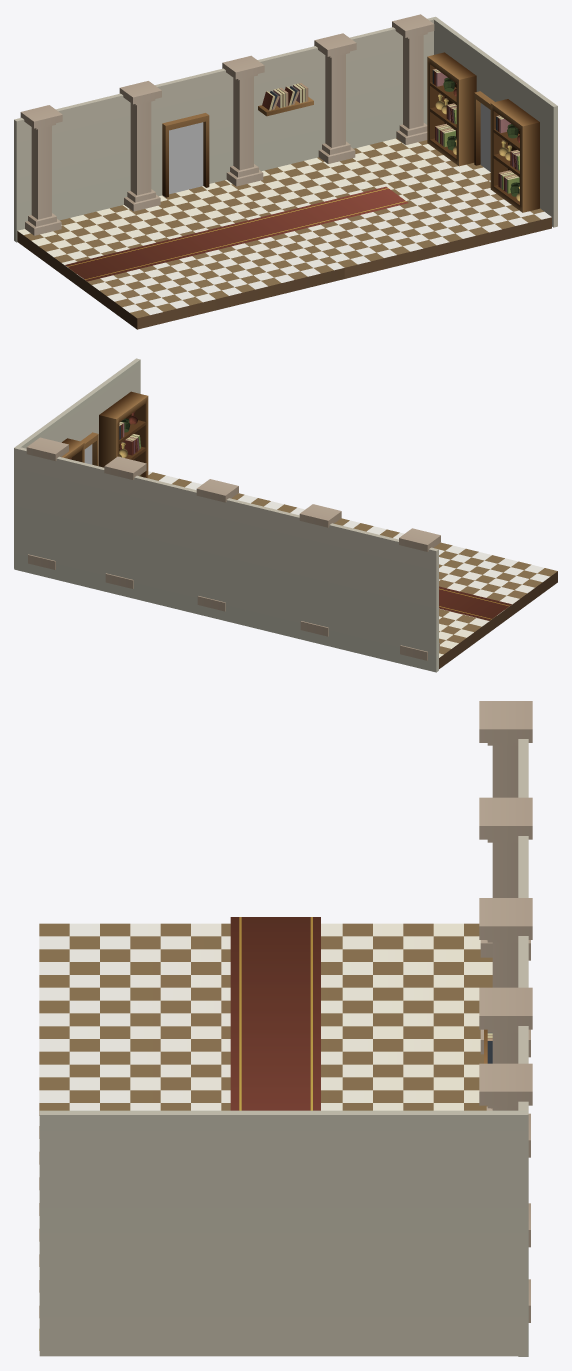
The model's file is base_guild.glb.
3 views of the same model, one above another, from view 1: azimuth 30°, elevation 25°; view 2: azimuth 150°, elevation 25°; view 3: azimuth 270°, elevation 25° (orthographic). The views are drawn at different scales.
Parts seen in each view (by area): view 1: Cube, Plane, Plane034, Plane001, Cube001, Cube014, Plane004, Cube010, Cube012, Cube011, Cube009, Cube013 (+2 smaller); view 2: Plane, Cube, Plane001, Cube001, Plane034, Cube011, Cube010, Cube012, Cube009, Cube013, Plane007, Cube014; view 3: Plane001, Cube, Plane034, Cube010, Cube009, Cube011, Cube012, Plane, Cube013.
Part boxes in pixels (bbox=[...]): Cube: bbox=[17, 138, 551, 329]; Plane: bbox=[14, 17, 433, 242]; Plane034: bbox=[65, 186, 408, 281]; Plane001: bbox=[432, 17, 557, 227]; Cube001: bbox=[490, 99, 539, 212]; Cube014: bbox=[427, 52, 476, 166]; Plane004: bbox=[162, 113, 209, 197]; Cube010: bbox=[119, 81, 161, 211]; Cube012: bbox=[314, 33, 356, 163]; Cube011: bbox=[222, 55, 264, 186]; Cube009: bbox=[20, 105, 62, 235]; Cube013: bbox=[392, 14, 434, 144]; Plane: bbox=[14, 447, 438, 672]; Cube: bbox=[148, 471, 557, 668]; Plane001: bbox=[14, 358, 140, 568]; Cube001: bbox=[99, 391, 148, 478]; Plane034: bbox=[439, 586, 511, 620]; Cube011: bbox=[196, 479, 238, 611]; Cube010: bbox=[299, 504, 341, 636]; Cube012: bbox=[104, 456, 146, 588]; Cube009: bbox=[399, 528, 440, 660]; Cube013: bbox=[26, 437, 68, 569]; Plane007: bbox=[80, 432, 98, 466]; Cube014: bbox=[61, 438, 84, 462]; Plane001: bbox=[39, 1110, 527, 1356]; Cube: bbox=[39, 923, 492, 1350]; Plane034: bbox=[230, 917, 320, 1110]; Cube010: bbox=[479, 797, 532, 1057]; Cube009: bbox=[479, 701, 532, 960]; Cube011: bbox=[479, 898, 532, 1157]; Cube012: bbox=[479, 987, 532, 1247]; Plane: bbox=[518, 739, 528, 1356]; Cube013: bbox=[479, 1063, 532, 1322].
Size of the model in its own units: 6.69 by 1.91 by 3.38.
Materials: 2 (1 with a texture image).
